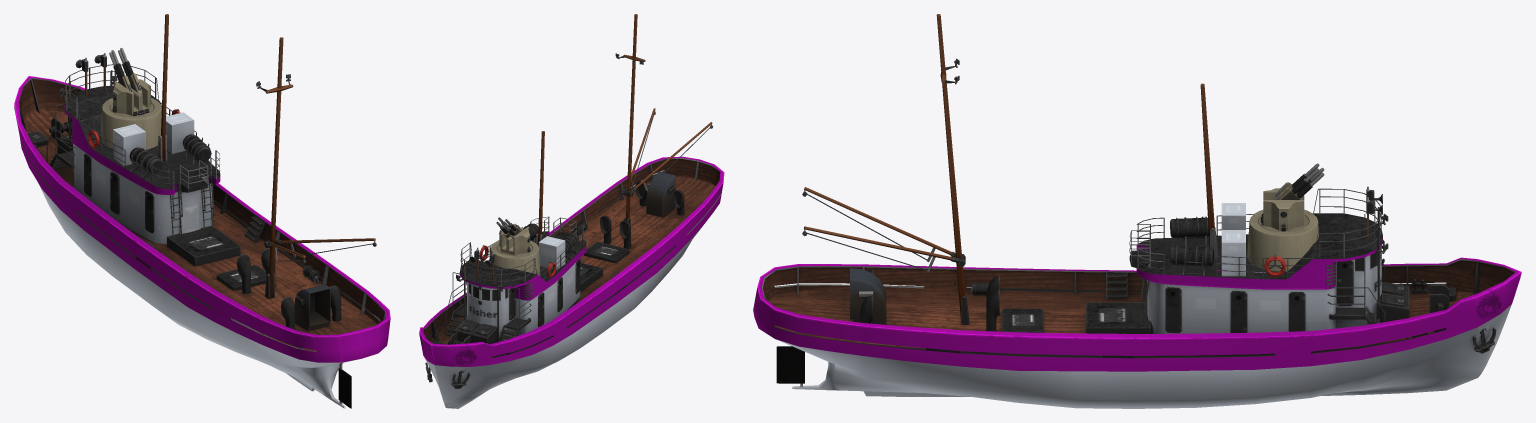
The model's file is Boat3.fbx.
3 views of the same model, side by side, from view 1: azimuth 30°, elevation 25°; view 2: azimuth 150°, elevation 25°; view 3: azimuth 270°, elevation 25° (orthographic). The views are drawn at different scales.
Visible parts, largest first — view 1: Boat.001, GunBase.001, GunMount.001, Barrels.001; view 2: Boat.001, GunBase.001, GunMount.001, Barrels.001; view 3: Boat.001, GunBase.001, GunMount.001, Barrels.001.
Boxes of the visible parts, x1,y1,x2,y2 form: Boat.001: (14, 14, 390, 408); GunBase.001: (101, 98, 161, 149); GunMount.001: (110, 79, 153, 116); Barrels.001: (109, 48, 142, 96); Boat.001: (419, 14, 724, 408); GunBase.001: (490, 240, 540, 275); GunMount.001: (497, 223, 532, 255); Barrels.001: (496, 217, 522, 238); Boat.001: (753, 14, 1521, 408); GunBase.001: (1247, 209, 1318, 271); GunMount.001: (1258, 188, 1308, 231); Barrels.001: (1273, 163, 1324, 199).
Size of the model in its own units: 6.12 by 15.83 by 28.89.
Materials: 2 (2 with a texture image).
